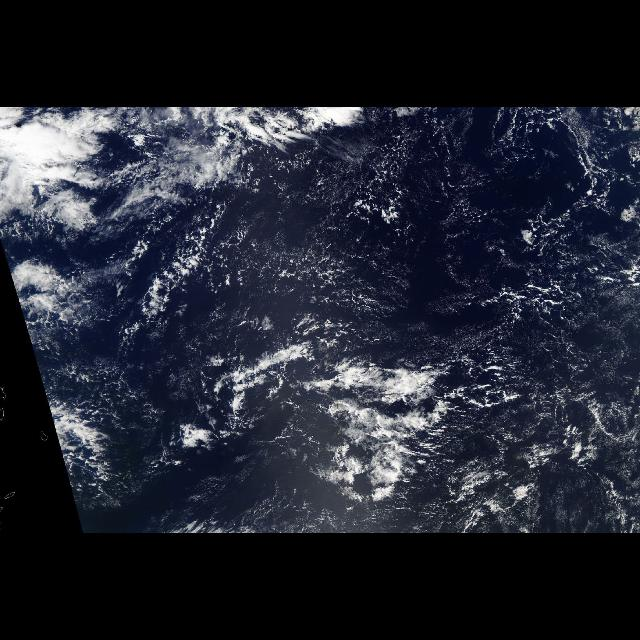Gravel: (284, 117, 638, 476)
Sugar: (243, 158, 415, 324)
